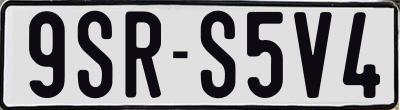4: (341, 10, 381, 101)
5: (245, 11, 282, 98)
9: (28, 11, 67, 104)
R: (122, 9, 159, 98)
S: (75, 11, 113, 103), (200, 8, 236, 96)
V: (293, 10, 332, 96)
